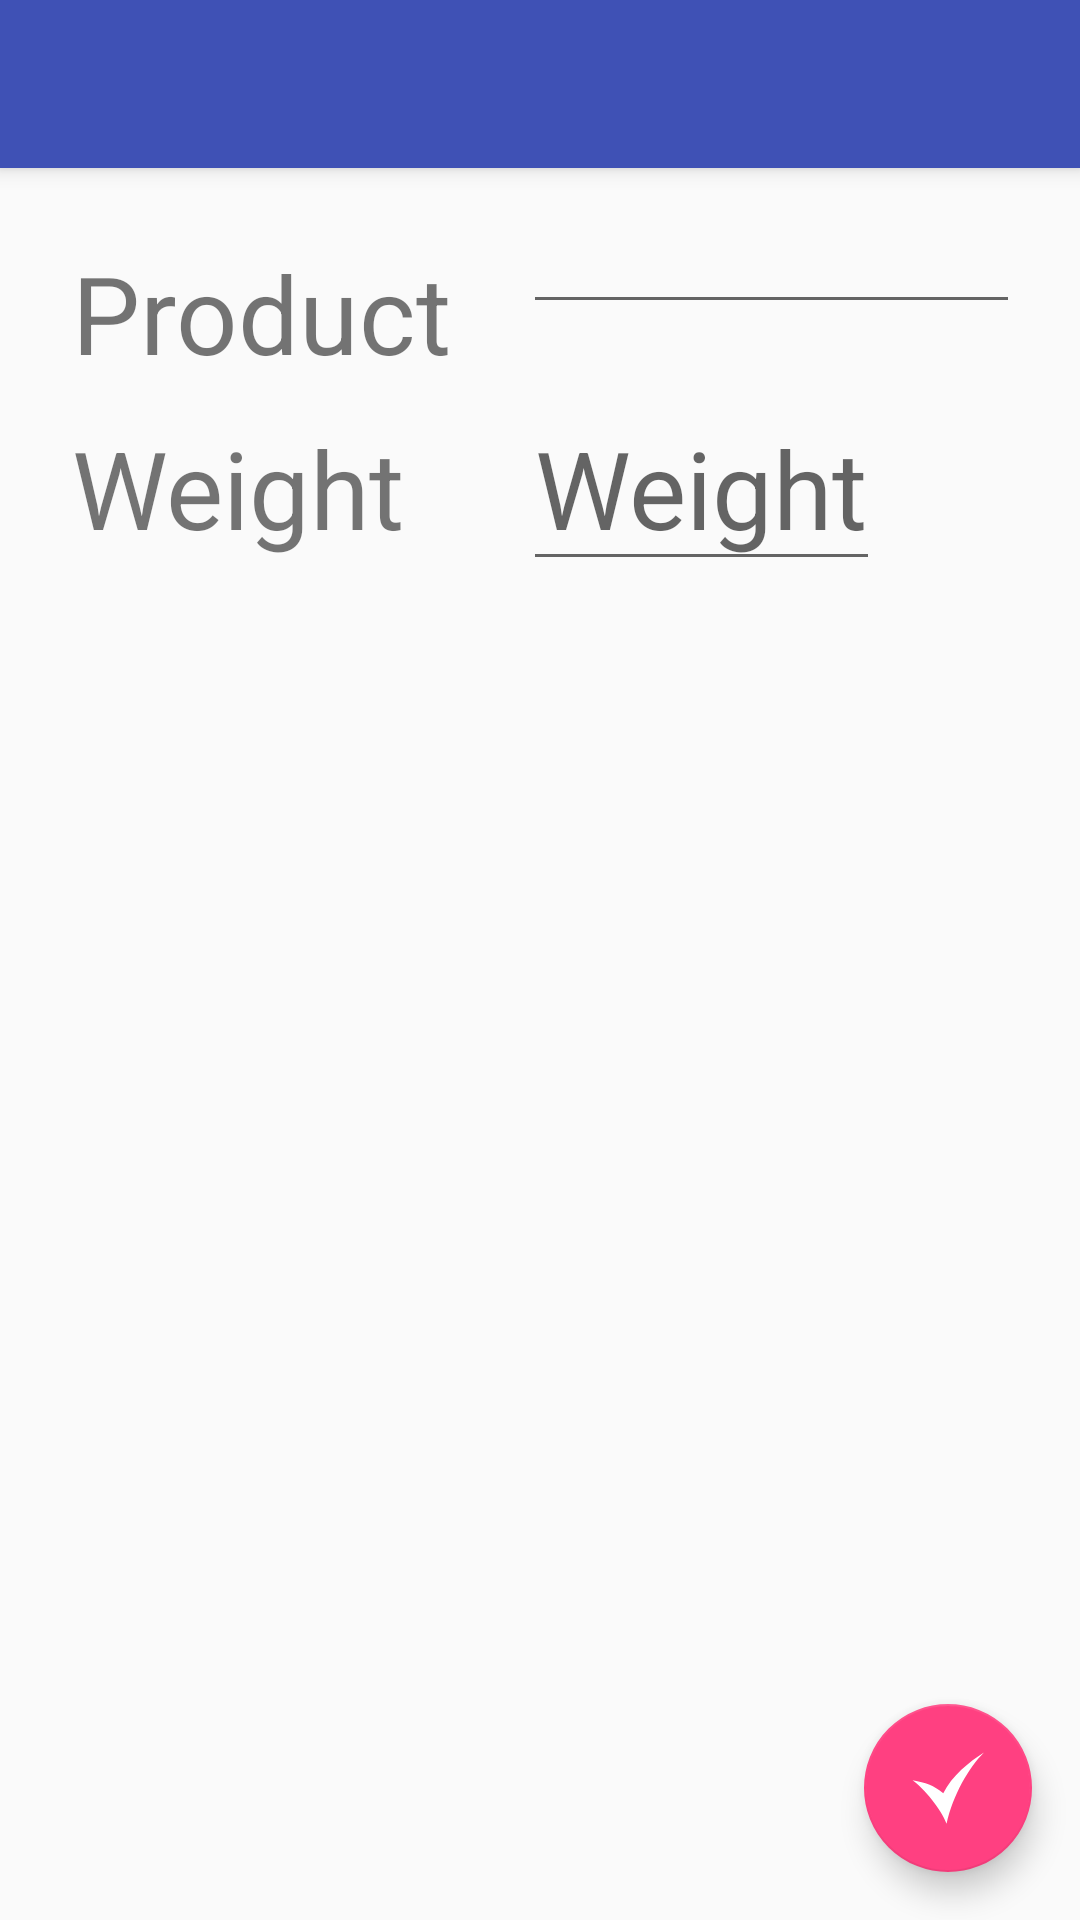

Named icons in this screenshot (1080 x 1920) and their centers, (x,y):
check: (948,1788)
